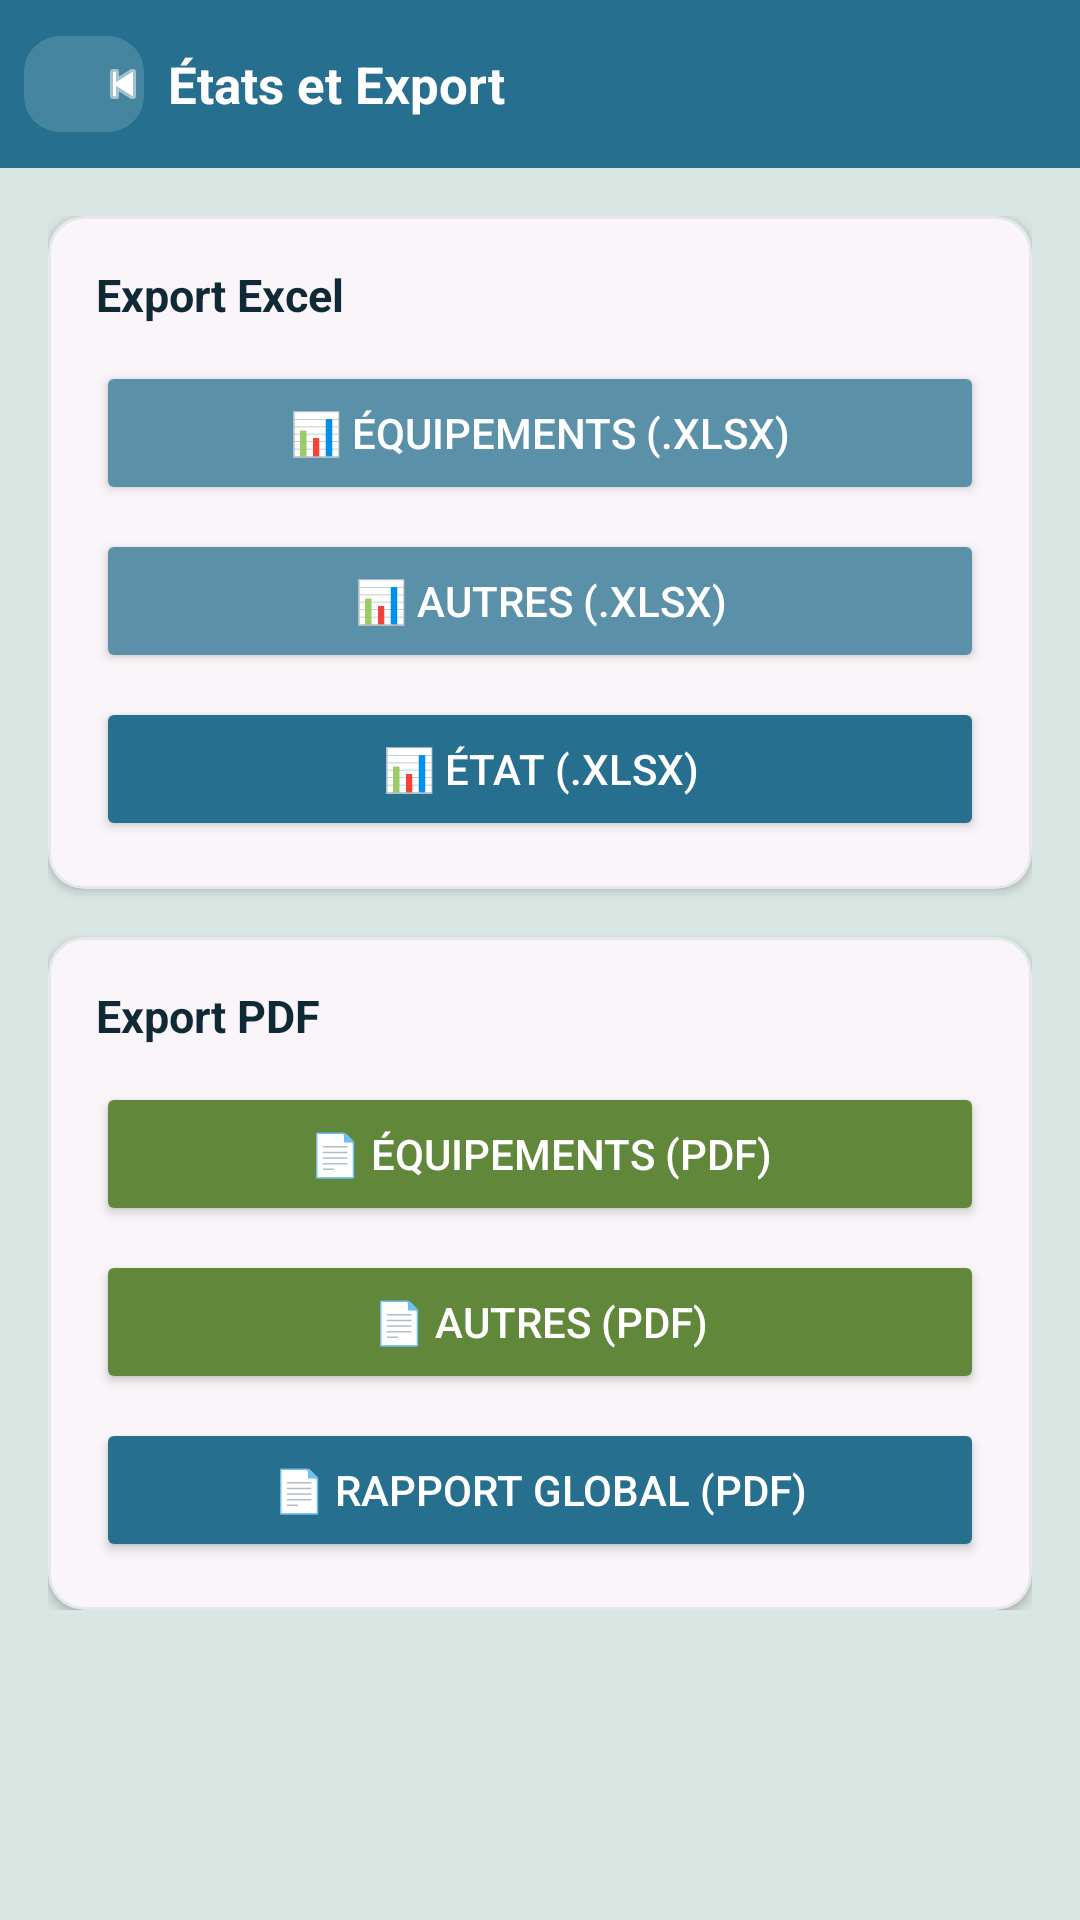

Named icons in this screenshot (1080x1920) and their bounding boxes, detection(x1, y1, x2, y2):
previous: detection(24, 36, 144, 132)
